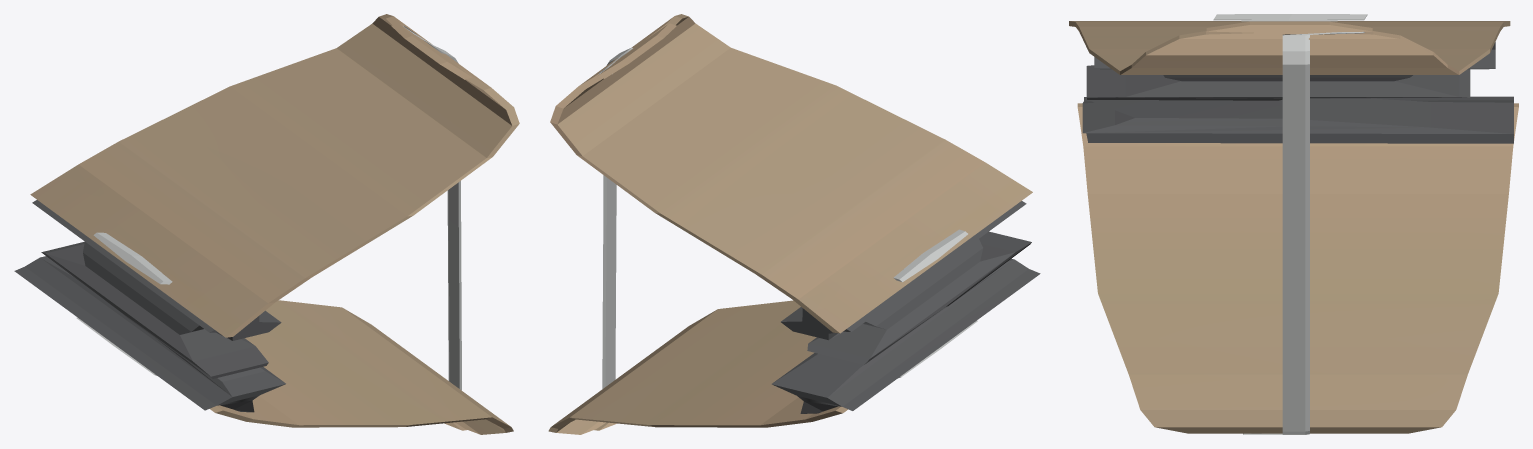
The model's file is bow.glb.
The picture shows the model from 3 angles, left to right: view 1: azimuth 30°, elevation 25°; view 2: azimuth 150°, elevation 25°; view 3: azimuth 270°, elevation 25°; orthographic projection. The views are drawn at different scales.
Visible parts, largest first — view 1: Bow; view 2: Bow; view 3: Bow.
Part boxes in pixels (box(x1,y1,x2,y2)): Bow: box(14, 14, 519, 434); Bow: box(548, 14, 1040, 434); Bow: box(1069, 14, 1518, 434).
Size of the model in its own units: 1 by 1 by 1.
1 material, 1 textured.
